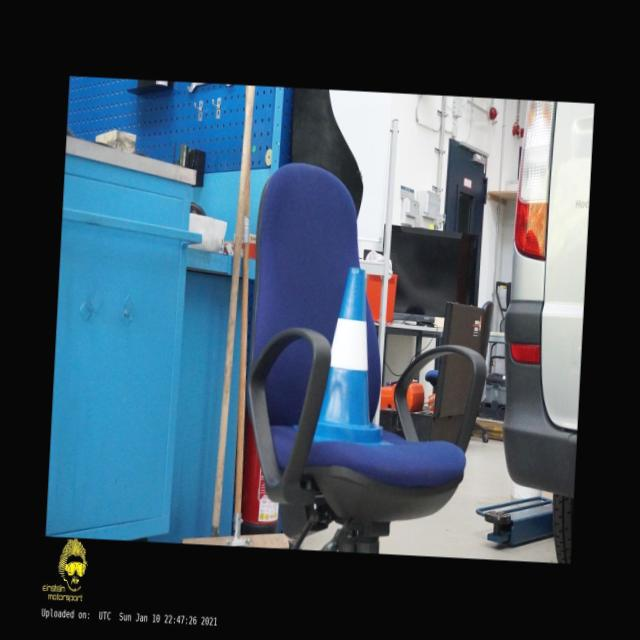blue_cone: (312, 266, 402, 445)
